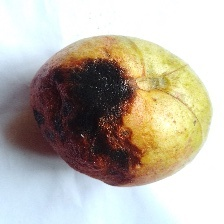guava: (55, 43, 207, 182)
